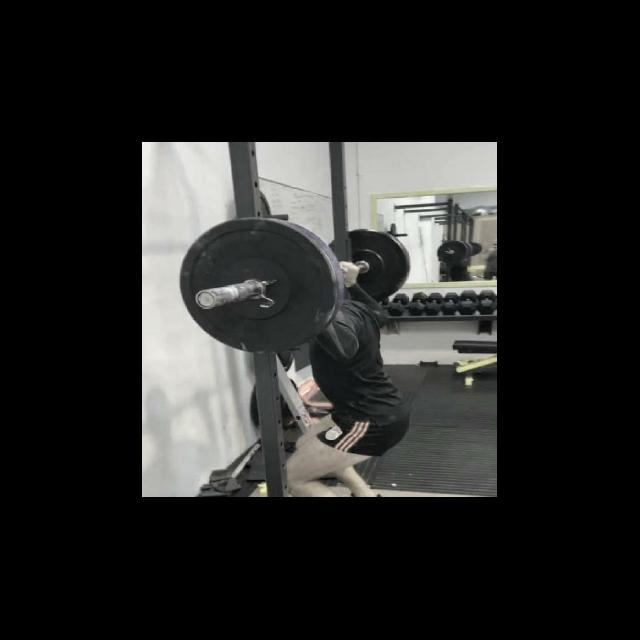barbell: (177, 216, 336, 355)
